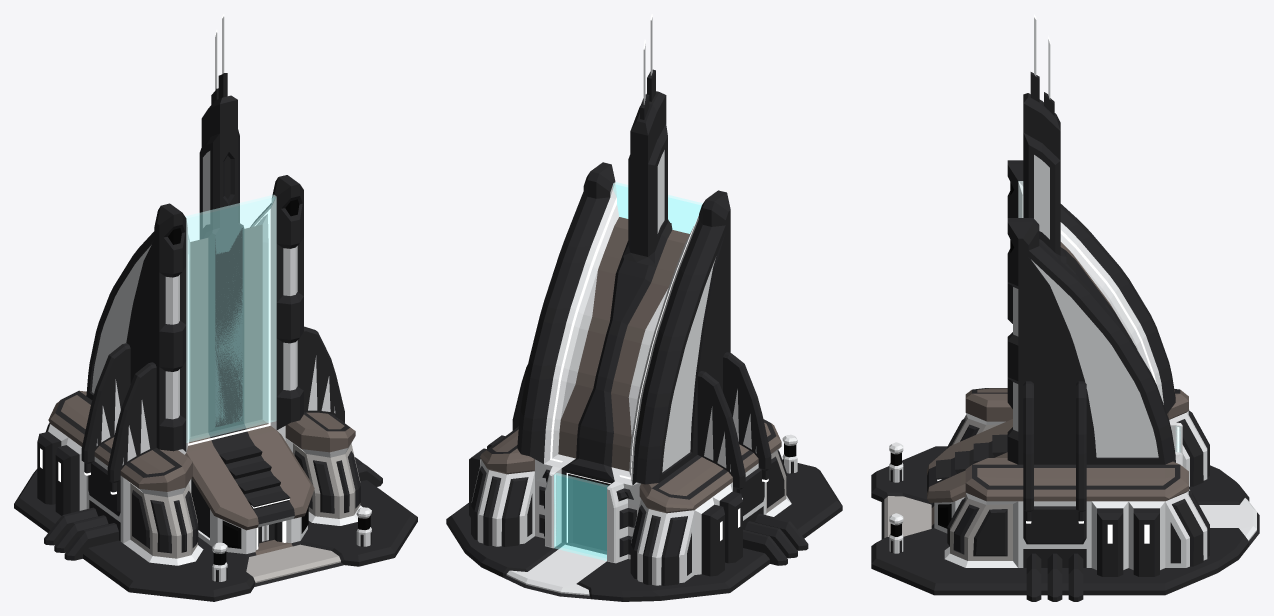
The model's file is infocenter.glb.
The picture shows the model from 3 angles, left to right: view 1: azimuth 30°, elevation 25°; view 2: azimuth 150°, elevation 25°; view 3: azimuth 270°, elevation 25°; orthographic projection. The views are drawn at different scales.
Visible parts, largest first — view 1: InformationCenter_Body, InformationCenter_ForwardDisplay, InformationCenter_Foundation, InformationCenter_Parts; view 2: InformationCenter_Body, InformationCenter_Foundation, InformationCenter_Parts, InformationCenter_BackwardDisplay, InformationCenter_ForwardDisplay; view 3: InformationCenter_Body, InformationCenter_Foundation, InformationCenter_Parts.
Part boxes in pixels (bbox=[...]): InformationCenter_Body: bbox=[37, 14, 362, 565]; InformationCenter_ForwardDisplay: bbox=[185, 195, 276, 442]; InformationCenter_Foundation: bbox=[14, 469, 417, 601]; InformationCenter_Parts: bbox=[44, 326, 382, 581]; InformationCenter_Body: bbox=[469, 14, 791, 585]; InformationCenter_Foundation: bbox=[446, 463, 842, 601]; InformationCenter_Parts: bbox=[512, 352, 808, 565]; InformationCenter_BackwardDisplay: bbox=[554, 473, 608, 560]; InformationCenter_ForwardDisplay: bbox=[613, 182, 702, 233]; InformationCenter_Body: bbox=[927, 14, 1209, 576]; InformationCenter_Foundation: bbox=[871, 446, 1259, 595]; InformationCenter_Parts: bbox=[889, 381, 1086, 601].
Size of the model in its own units: 3500 by 5361 by 3700.
2 materials, 1 textured.
